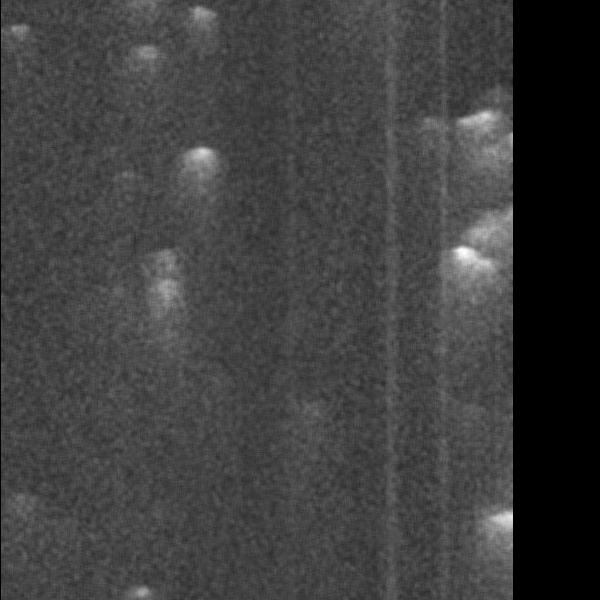spark: (1, 517, 32, 596), (321, 574, 380, 600)
